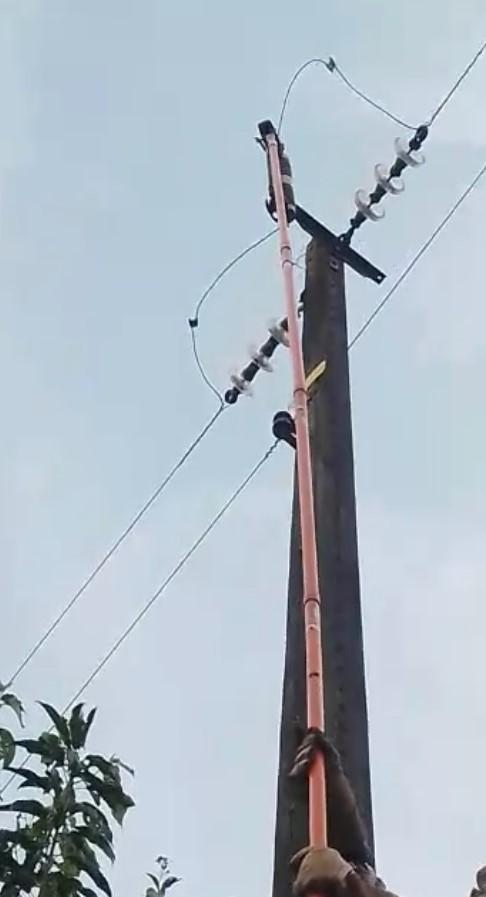Vara_Manobra: (264, 133, 333, 897)
